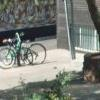Bicycle: (1, 28, 48, 73)
